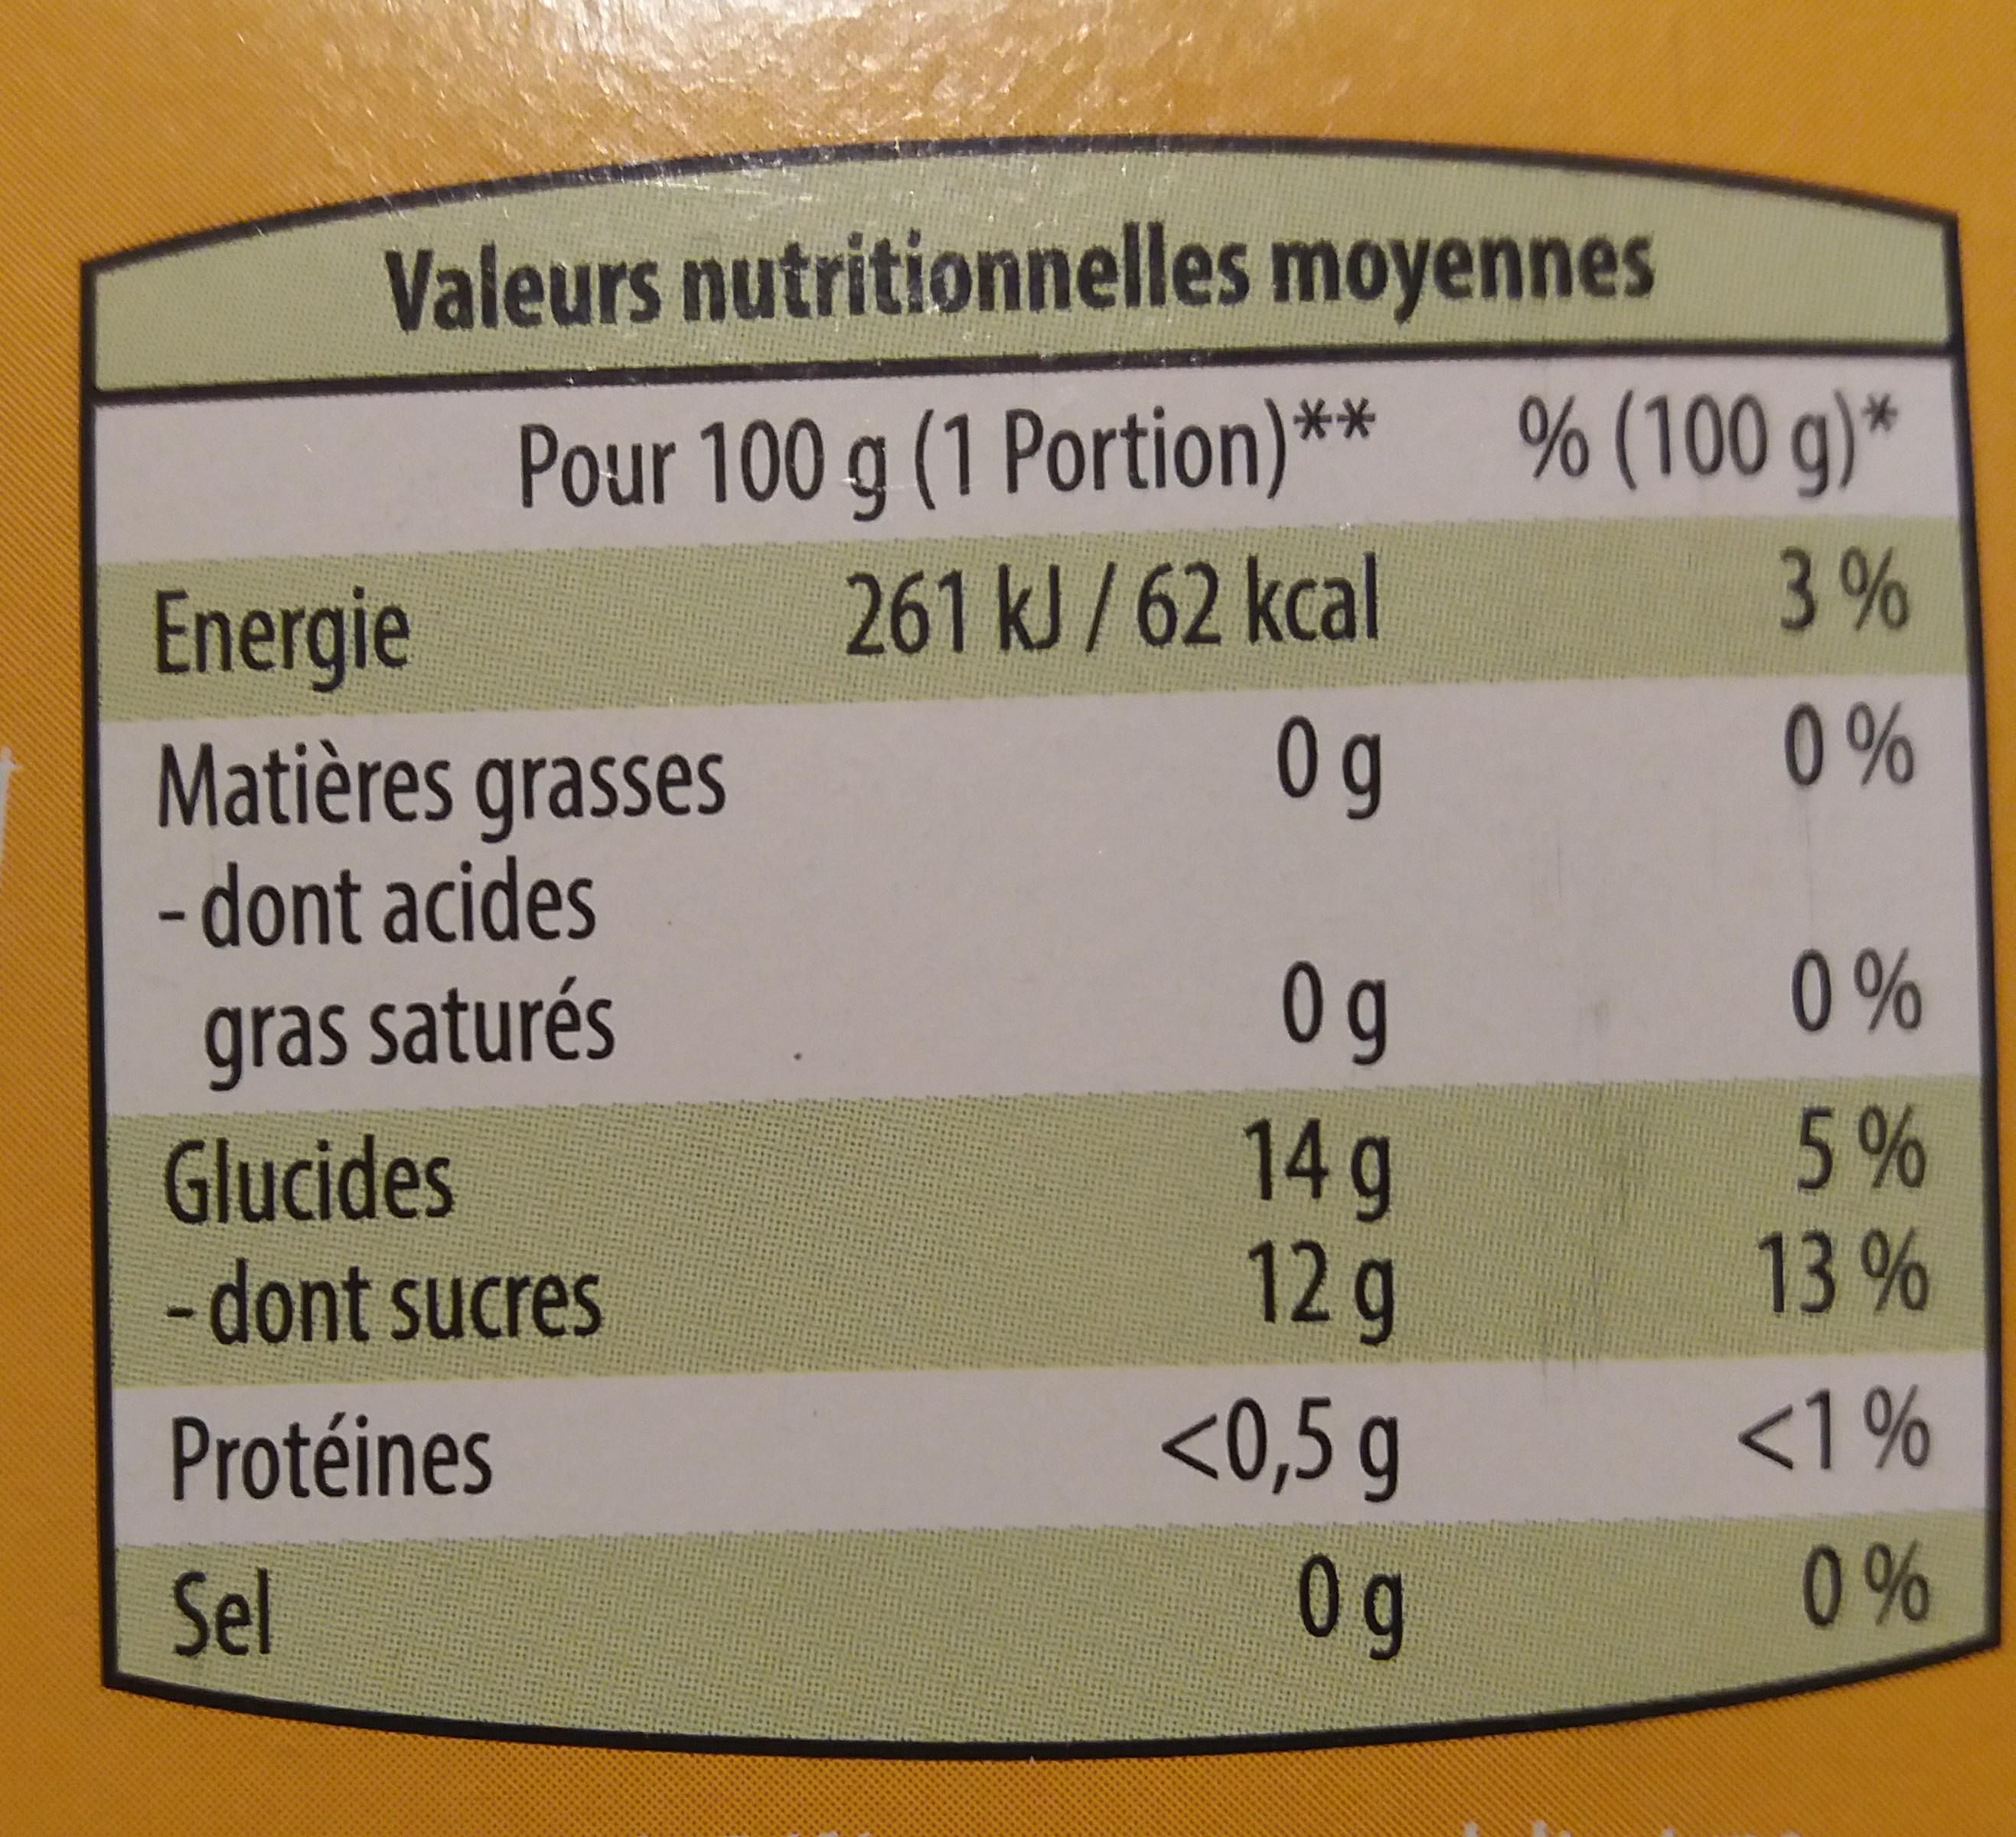column: (151, 581, 727, 1763), (841, 548, 1408, 1682), (1510, 346, 1937, 1760)
table: (77, 132, 2004, 1761)
